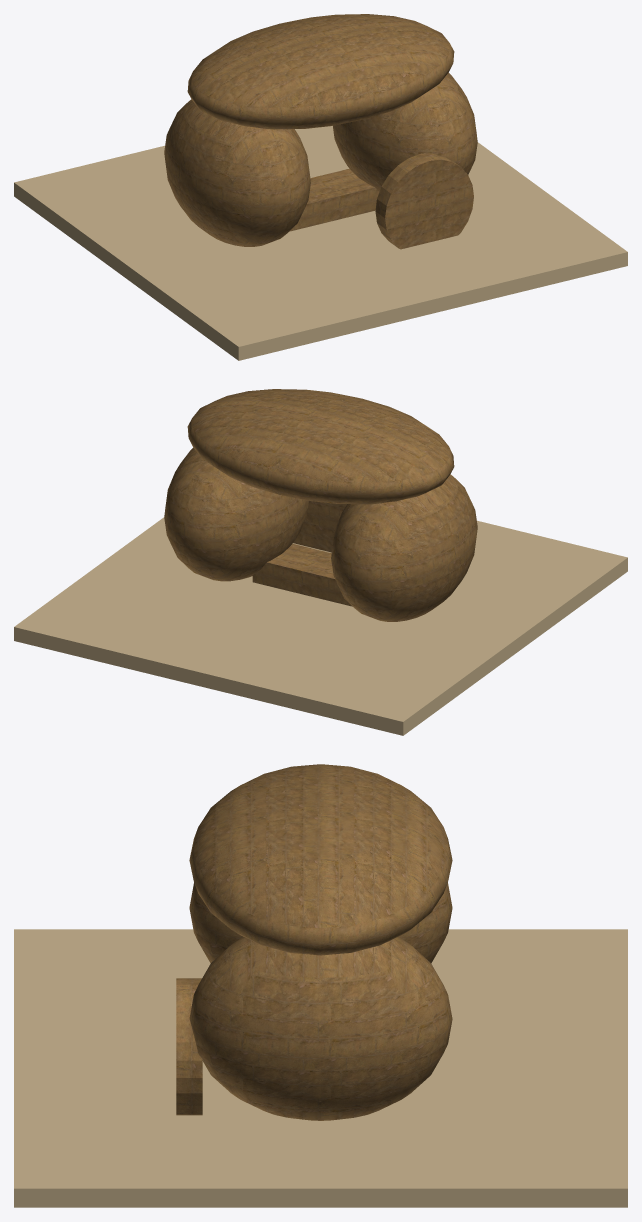
The model's file is tumulo.glb.
3 renders of one model, top to bottom at view 1: azimuth 30°, elevation 25°; view 2: azimuth 150°, elevation 25°; view 3: azimuth 270°, elevation 25°, orthographic. The views are drawn at different scales.
Parts seen in each view (by area): view 1: Base ilustrativa, Rocha superior, Rocha lateral, Rocha lateral.001, Pedra removível, Banco funerário; view 2: Base ilustrativa, Rocha superior, Rocha lateral, Rocha lateral.001, Banco funerário, Pedra removível; view 3: Base ilustrativa, Rocha superior, Rocha lateral.001, Rocha lateral, Pedra removível.
Boxes of the visible parts, left/top/right/bottom form: Base ilustrativa: left=14, top=126, right=627, bottom=360; Rocha superior: left=187, top=14, right=454, bottom=129; Rocha lateral: left=164, top=99, right=310, bottom=246; Rocha lateral.001: left=333, top=72, right=477, bottom=191; Pedra removível: left=375, top=153, right=473, bottom=249; Banco funerário: left=289, top=168, right=379, bottom=231; Base ilustrativa: left=14, top=517, right=627, bottom=735; Rocha superior: left=187, top=389, right=454, bottom=504; Rocha lateral: left=331, top=474, right=477, bottom=621; Rocha lateral.001: left=164, top=447, right=308, bottom=581; Banco funerário: left=252, top=543, right=352, bottom=606; Pedra removível: left=293, top=501, right=346, bottom=552; Base ilustrativa: left=14, top=929, right=627, bottom=1207; Rocha superior: left=189, top=764, right=452, bottom=955; Rocha lateral.001: left=189, top=937, right=452, bottom=1120; Rocha lateral: left=189, top=883, right=452, bottom=963; Pedra removível: left=176, top=978, right=202, bottom=1115.
Bounding box in the file's own units: 7 × 3.34 × 7.
Materials: 2 (1 with a texture image).
